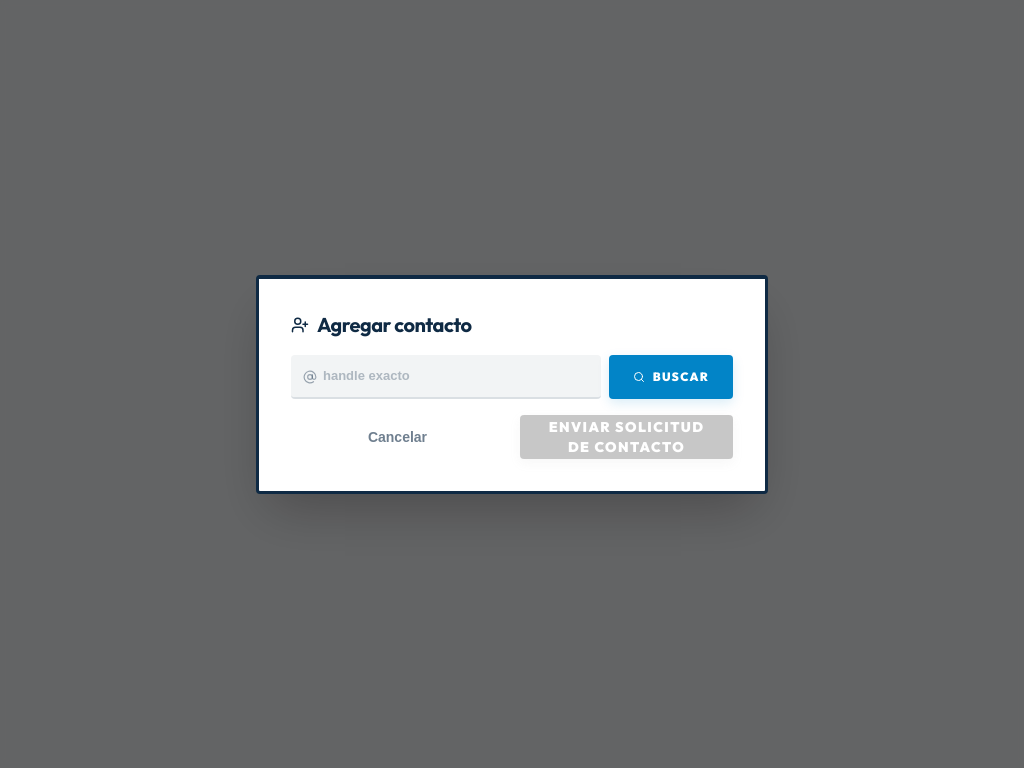
Test case: AddContactModal › un correo no se consulta: aviso local
The image size is (1024, 768).
Type "ana@piic.mx" into the field with test id "add-contact-input".
click(446, 376); type("ana@piic.mx")  # box x1=291 y1=354 x2=601 y2=398
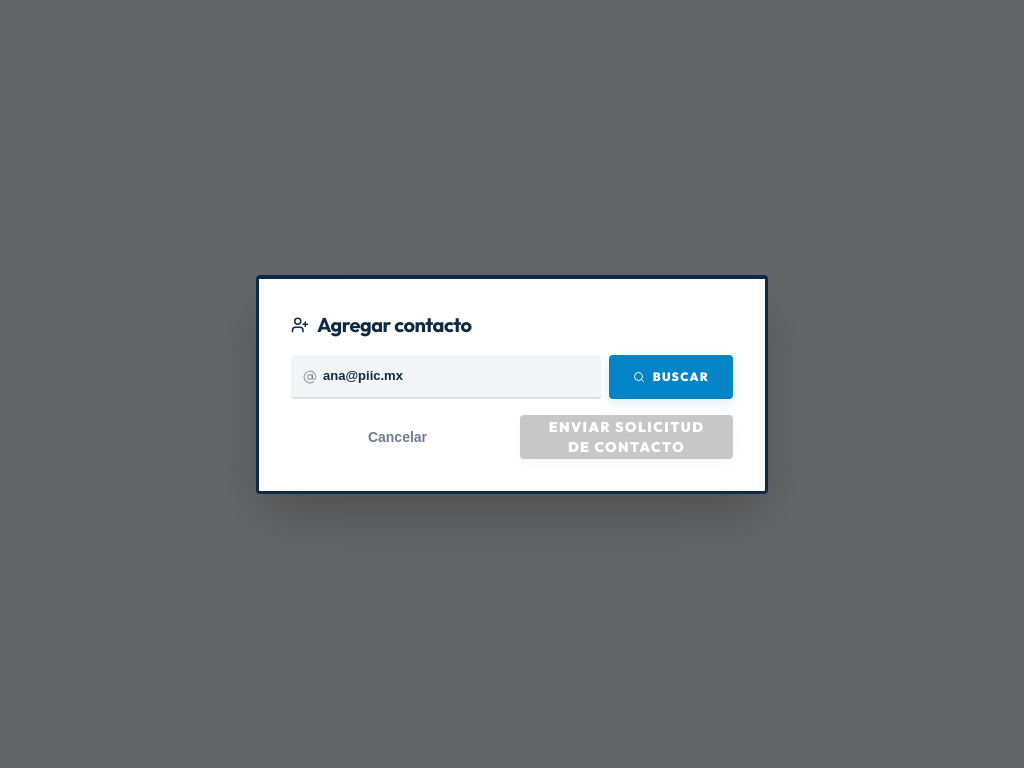
Click the button with test id "add-contact-search".
click(671, 376)  # box x1=609 y1=354 x2=733 y2=398
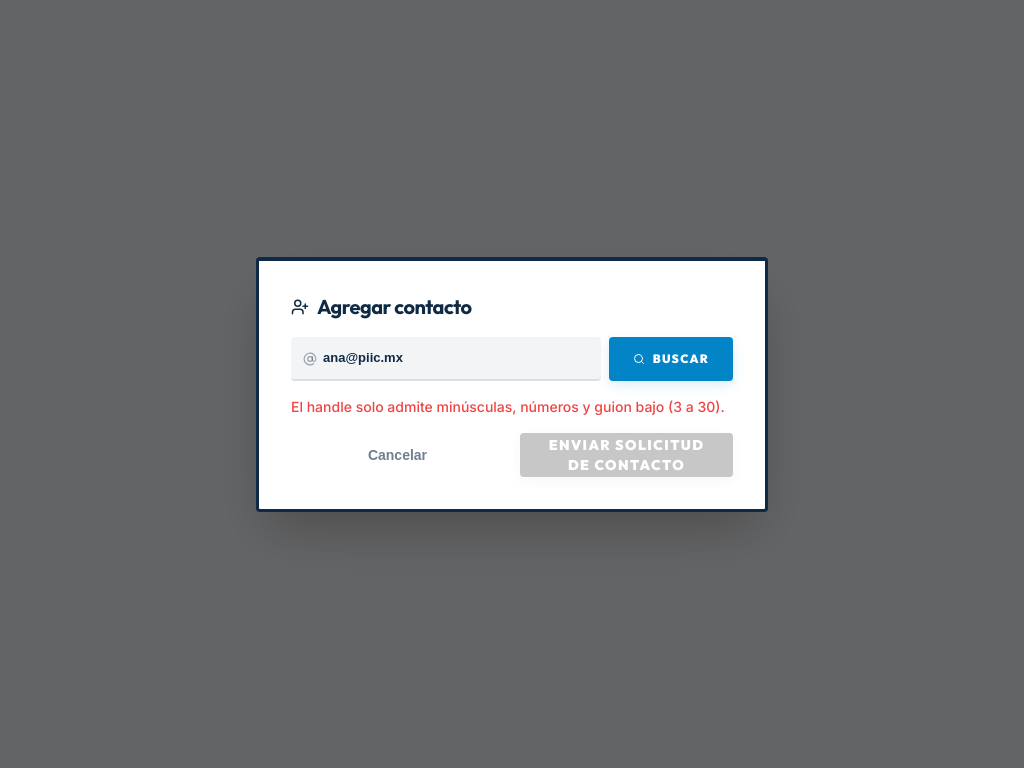
Expected: the message with test id "add-contact-error" shows "solo admite minúsculas", x1=291 y1=398 x2=725 y2=414
